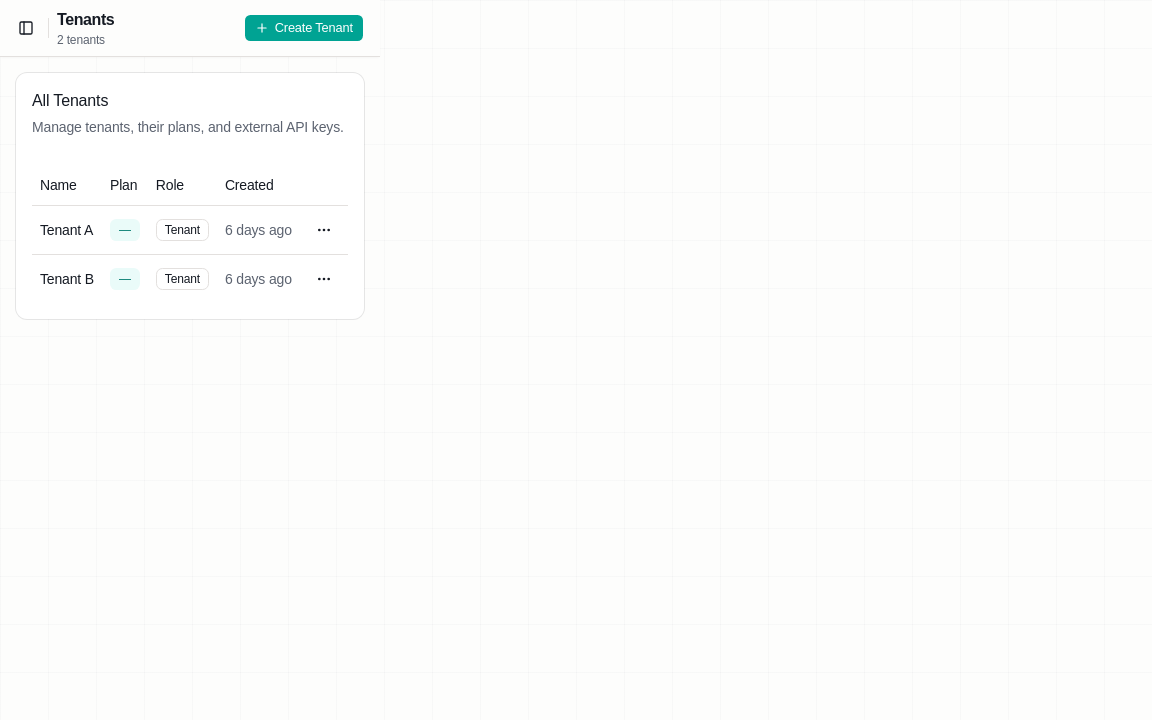
Test: loads the raw nullable snapshot independently of effective plan values
The image size is (1152, 720).
Expected: the text "Tenant A" is shown, [32, 205, 102, 254]
Click the 3rd button. click: coordinates (324, 230)
box: [308, 214, 340, 246]
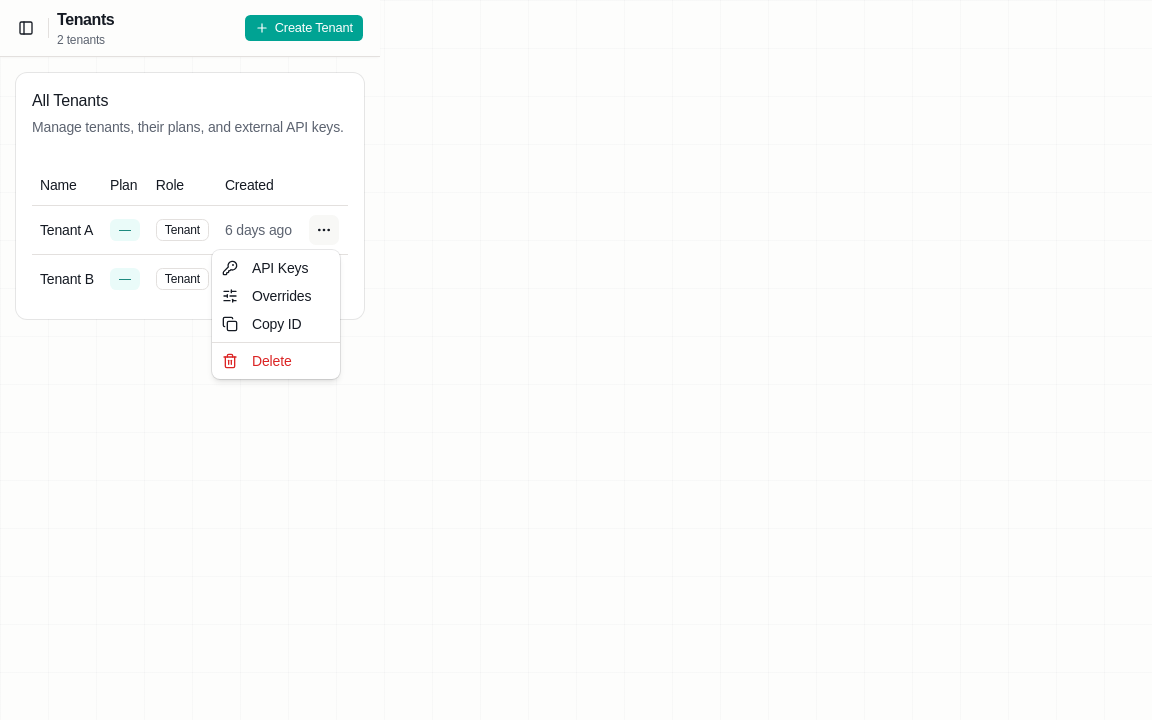
Click the menu item "Overrides". click: coordinates (267, 296)
box: [222, 288, 311, 304]
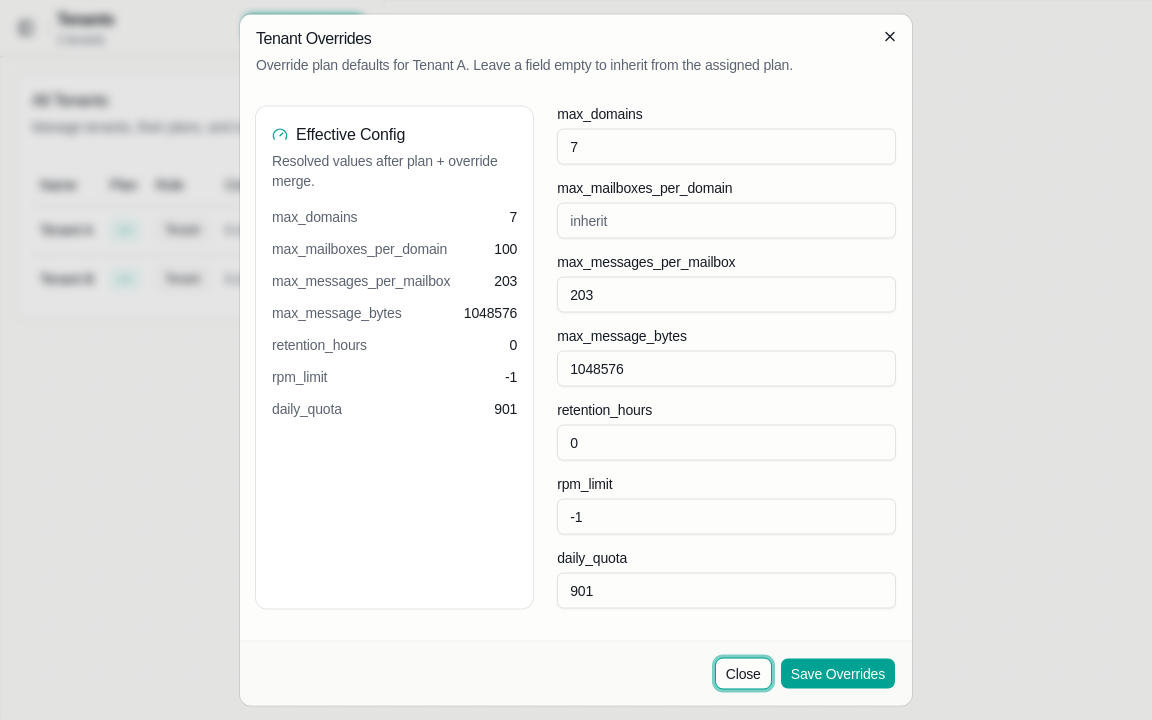
Now the dialog is shown, box [240, 14, 912, 706]
Now the number field with placeholder "inherit" holds "7", box [557, 128, 896, 164]
Now the number field with placeholder "inherit" is not empty, box [557, 202, 896, 238]
